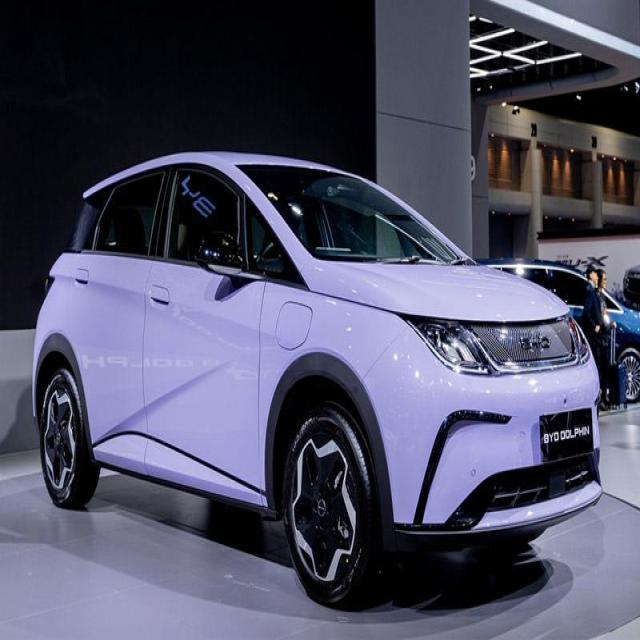Hatchback: (30, 152, 602, 613)
